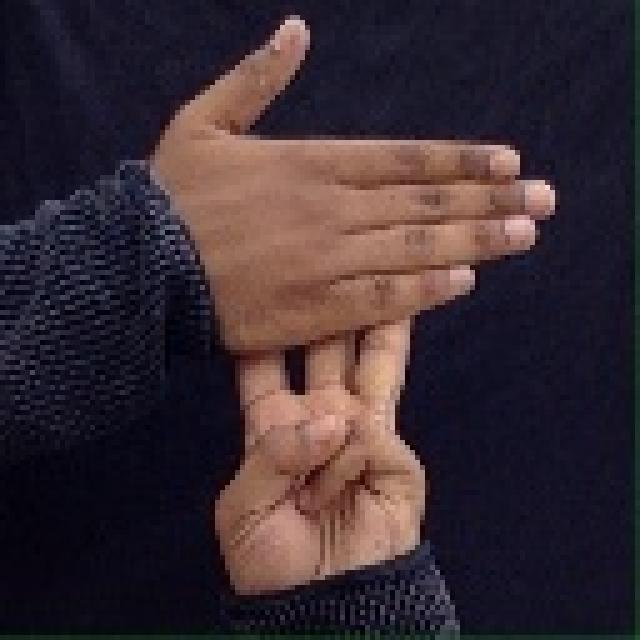M: (102, 3, 575, 640)
